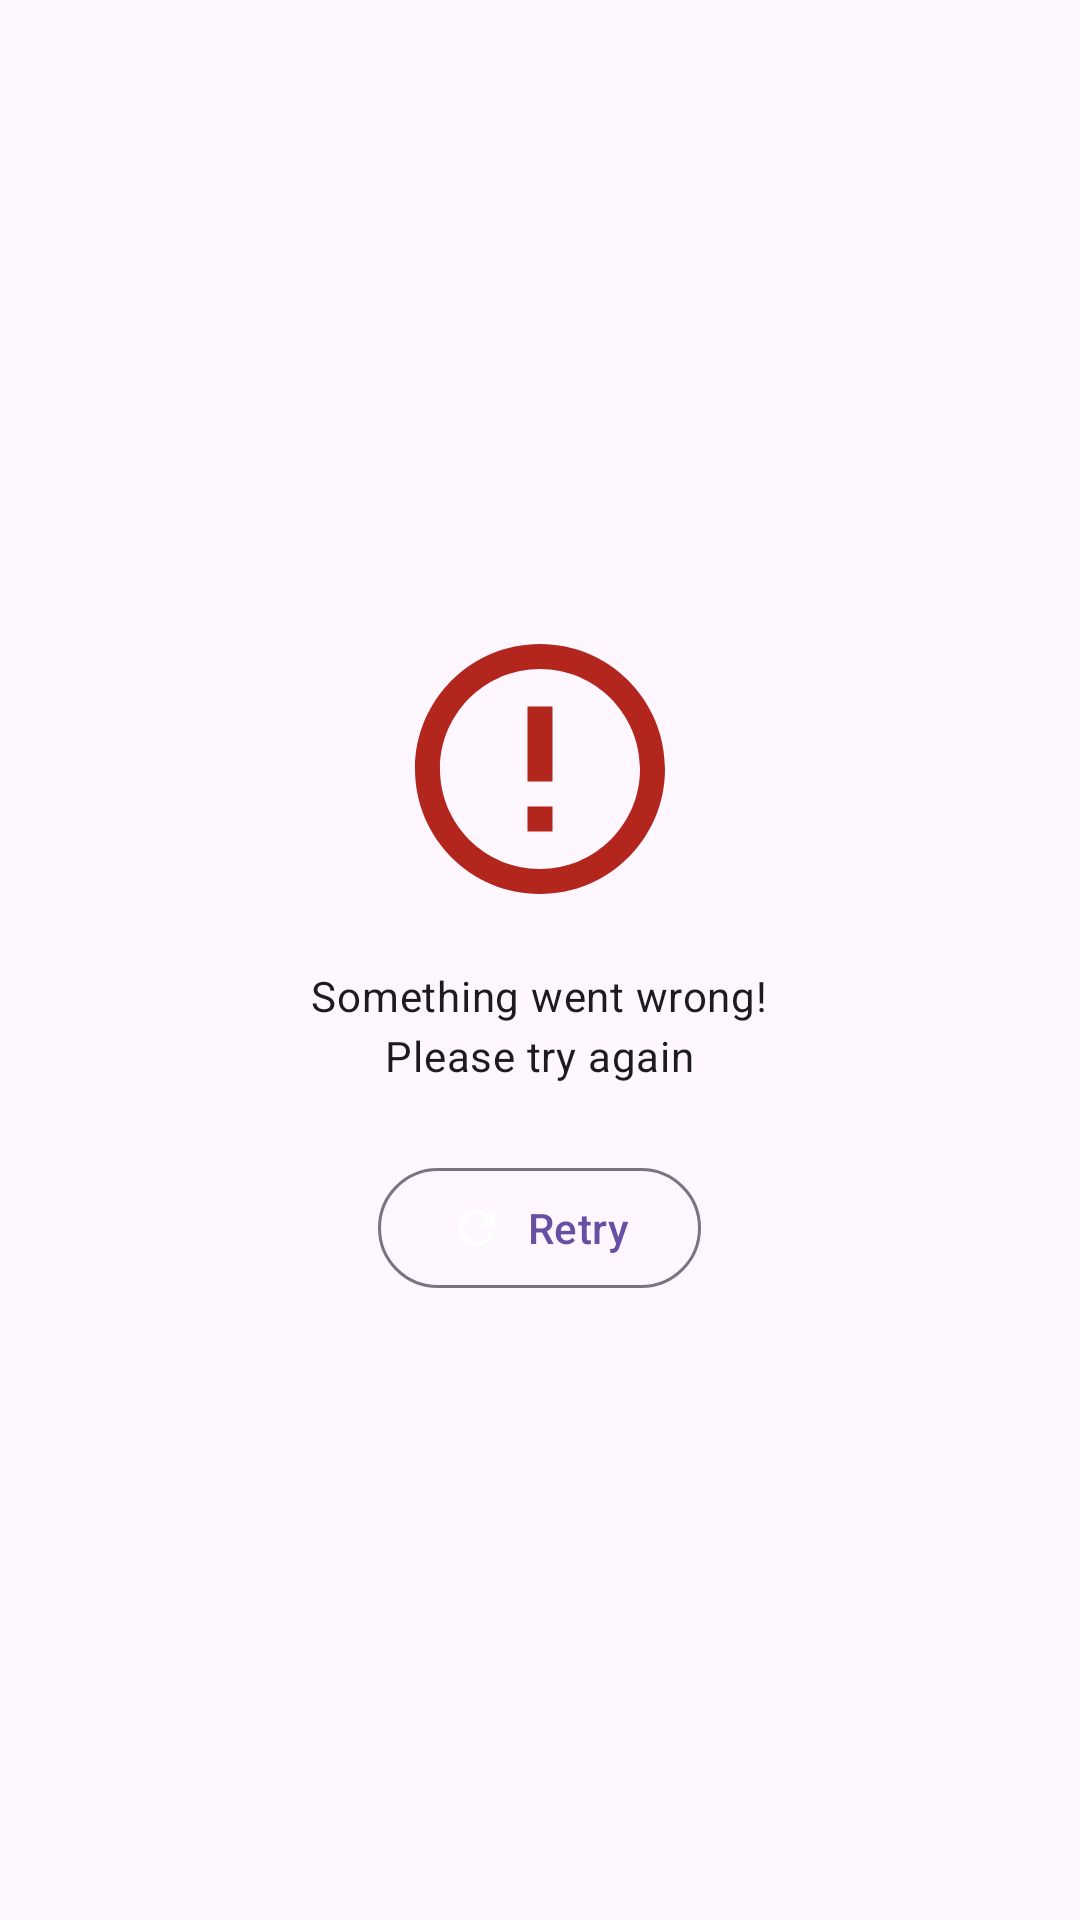

Icons on this 1080*1920 Android screen, each with the point to tap as (x,y):
error: (540,769)
